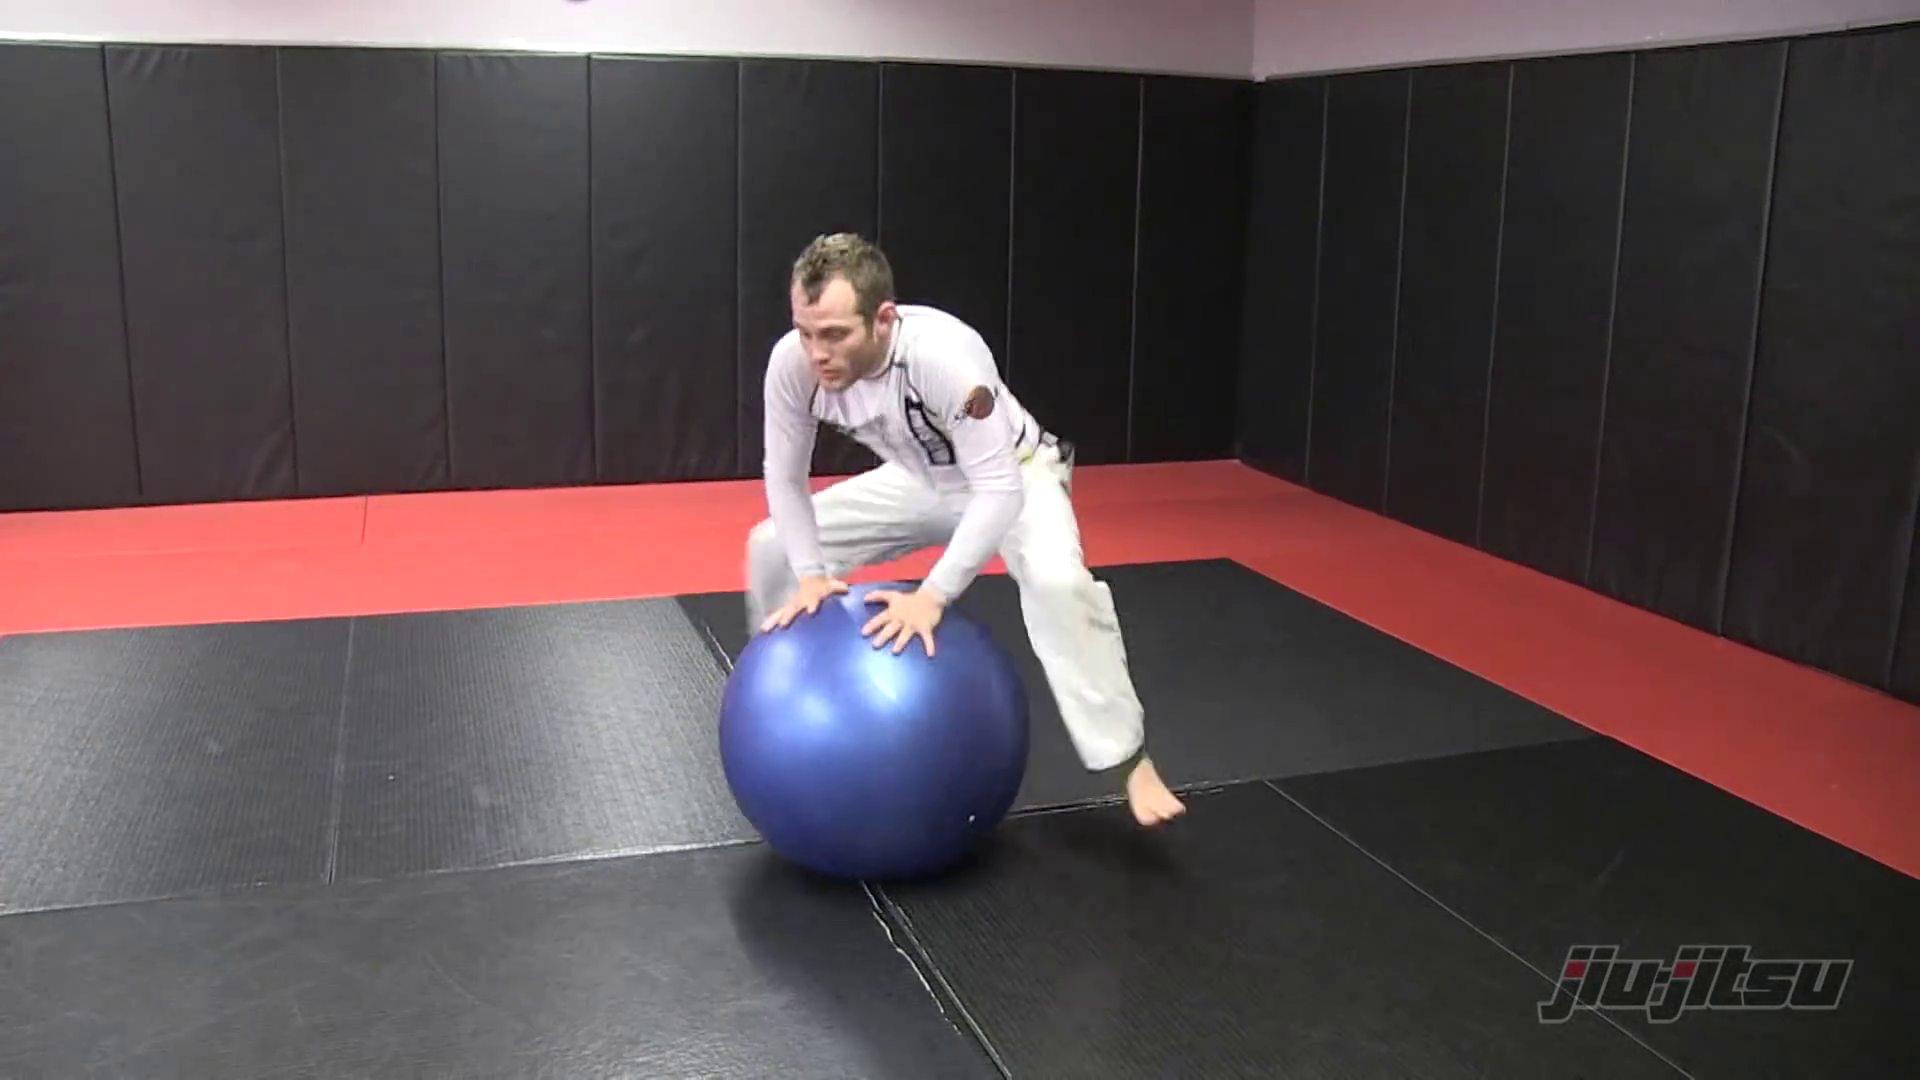yogaball: (703, 587, 1058, 897)
